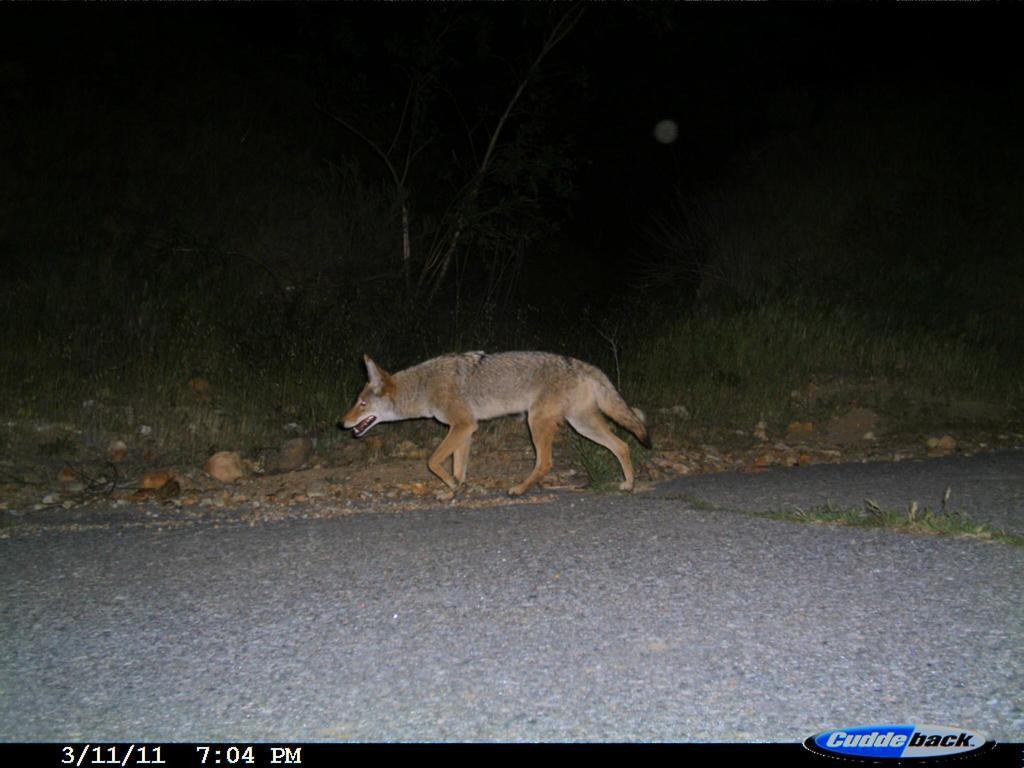coyote: (337, 344, 655, 513)
